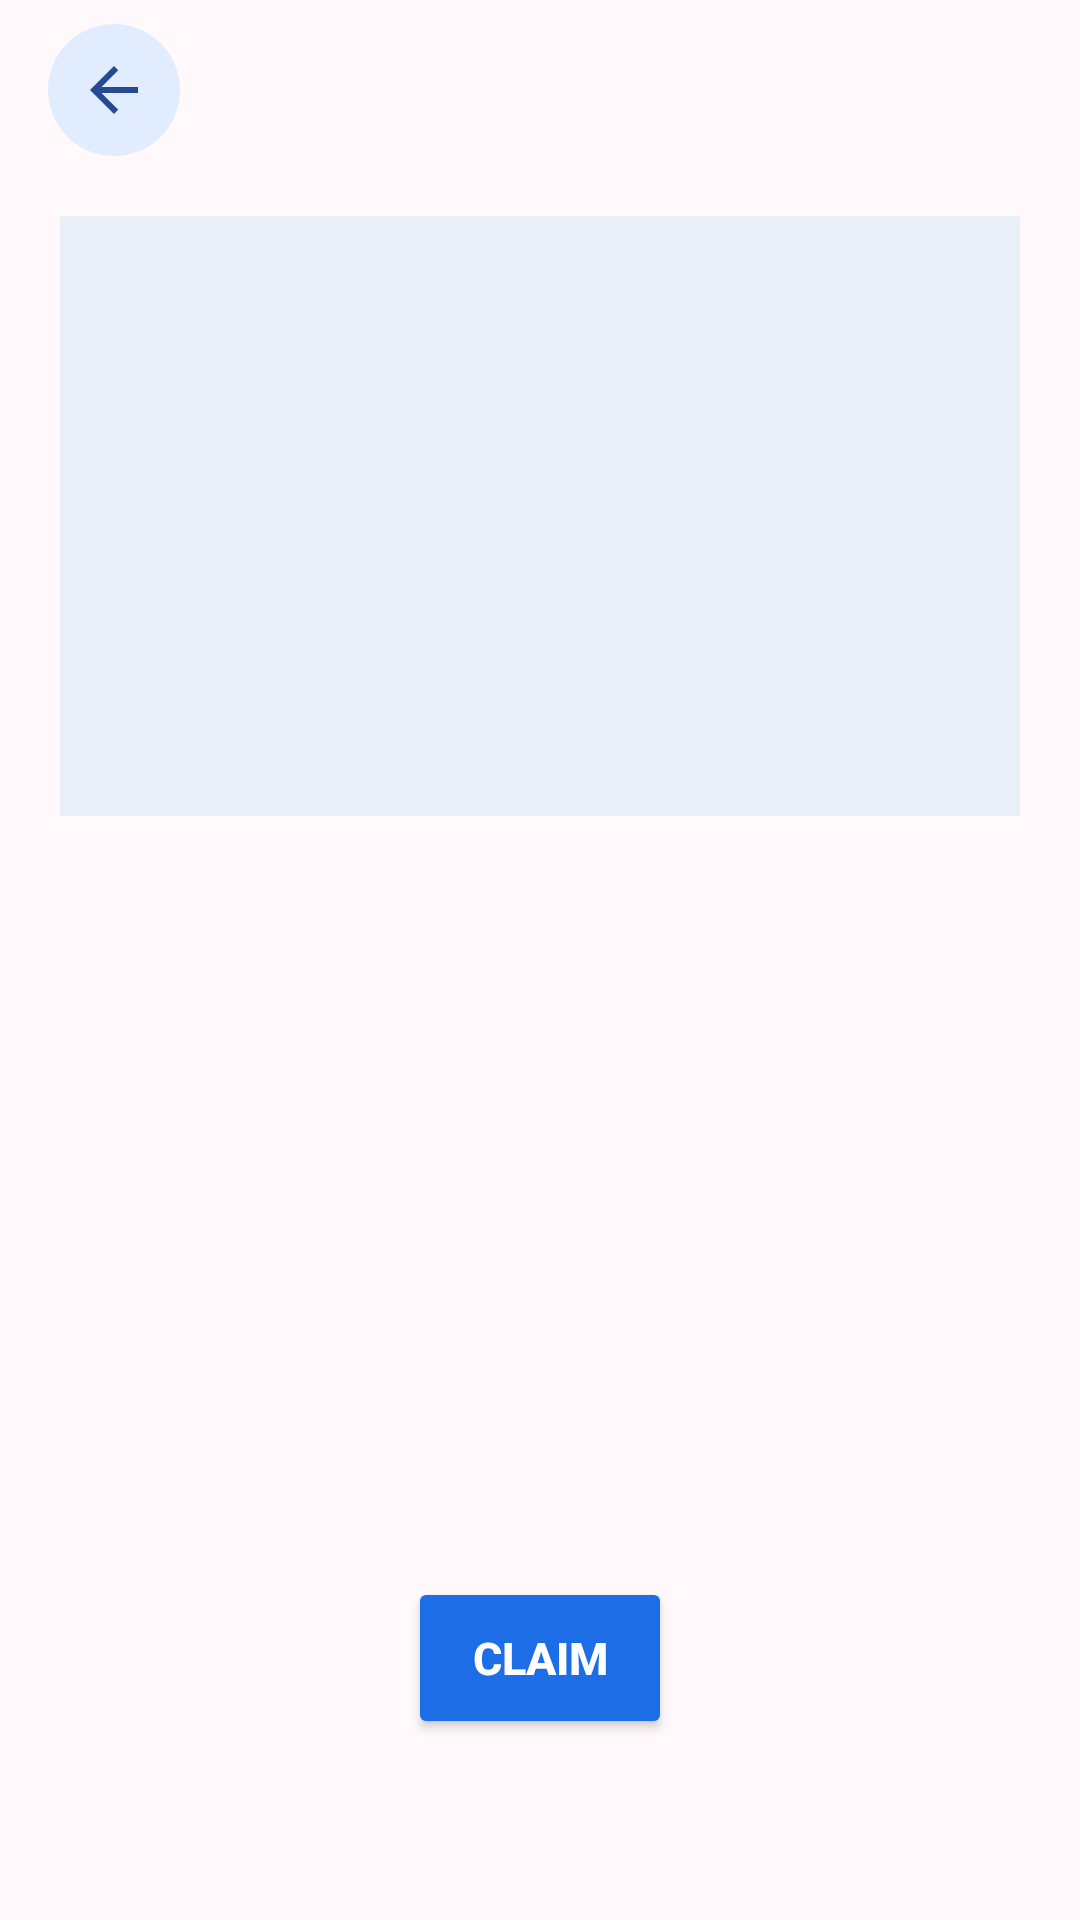

Icons on this 1080×1920 Android screen, each with its box as (x1, y1, x2, y2):
Back: (48, 24, 180, 156)
